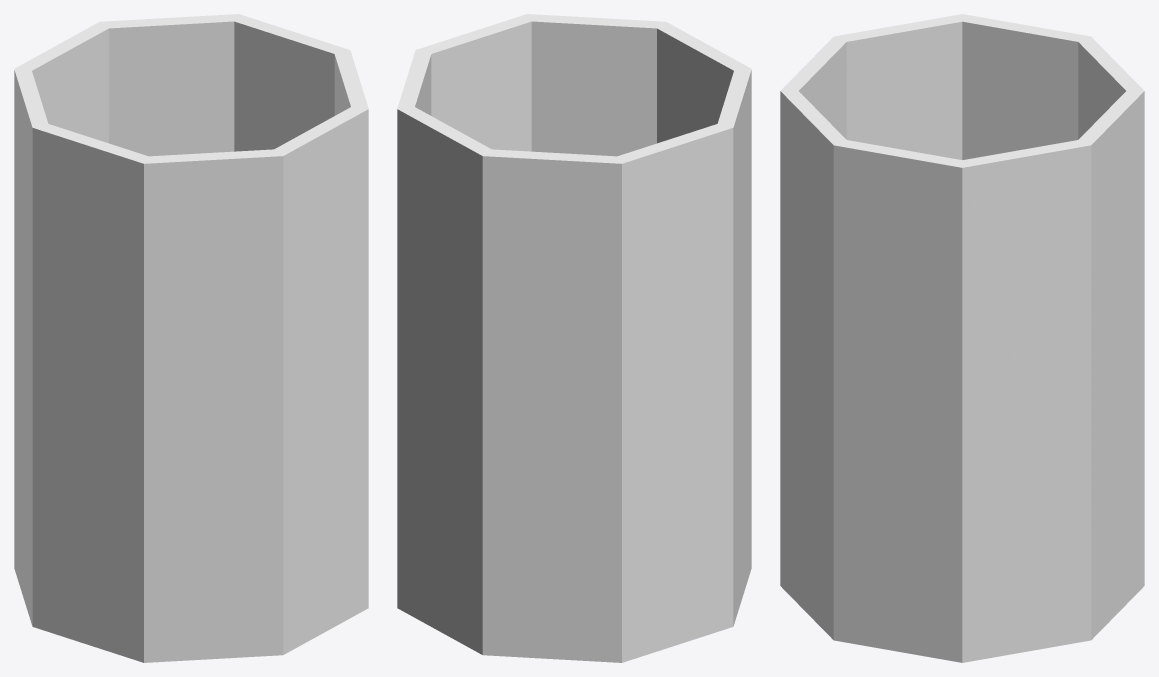
Rendered from Glass.glb.
3 views of the same model, side by side, from view 1: azimuth 30°, elevation 25°; view 2: azimuth 150°, elevation 25°; view 3: azimuth 270°, elevation 25° (orthographic).
Visible parts, largest first — view 1: Glass; view 2: Glass; view 3: Glass.
Boxes of the visible parts, x1,y1,x2,y2 form: Glass: (14,14,368,662); Glass: (397,14,751,662); Glass: (780,14,1144,662).
Size of the model in its own units: 0.07 by 0.105 by 0.07.
Materials: 1 (1 with a texture image).
